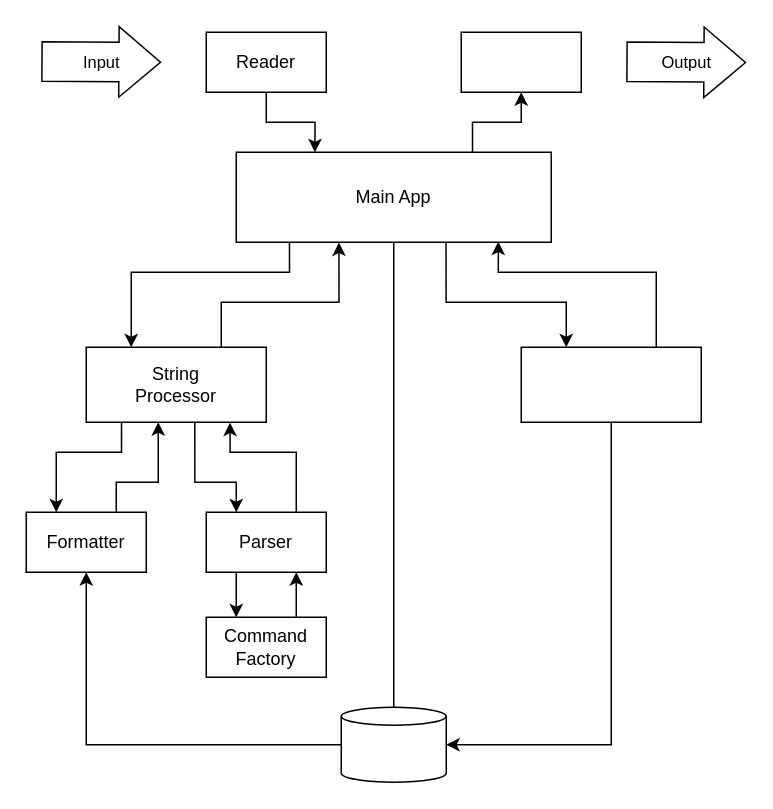
Image size: 773x809. Some labels were removed from this diagram. The box of each missing label's shape, as (x1, y1, x2, y2) in pixels:
Executor: (520, 346, 701, 422)
Memory: (340, 706, 446, 782)
Writer: (460, 31, 581, 92)
